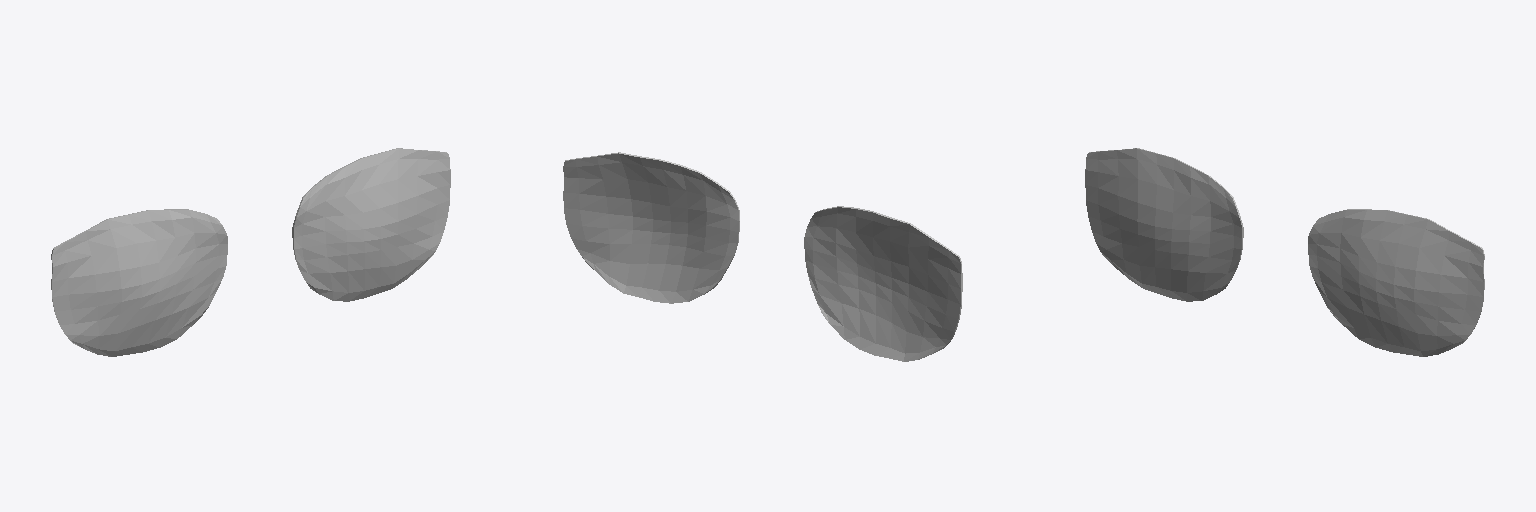
File: glasses_1_lenses.obj
3 views of the same model, side by side, from view 1: azimuth 30°, elevation 25°; view 2: azimuth 150°, elevation 25°; view 3: azimuth 330°, elevation 25° (orthographic).
Visible parts, largest first — view 1: Plane; view 2: Plane; view 3: Plane.
Boxes of the visible parts, x1,y1,x2,y2 form: Plane: [51, 148, 450, 356]; Plane: [563, 152, 962, 361]; Plane: [1085, 148, 1484, 356].
Size of the model in its own units: 0.1317 by 0.0449 by 0.007.